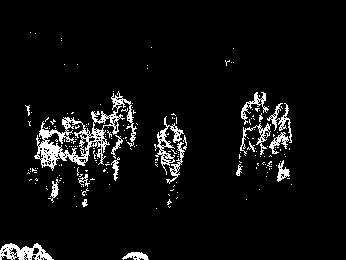person: (154, 110, 188, 210), (259, 102, 294, 182), (61, 115, 90, 205), (237, 88, 266, 175), (90, 108, 122, 179), (37, 118, 64, 201), (112, 90, 140, 148)
